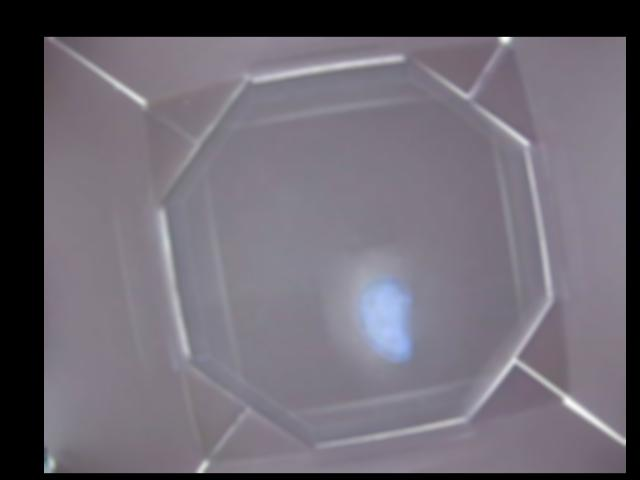Pebble: (359, 280, 412, 361)
